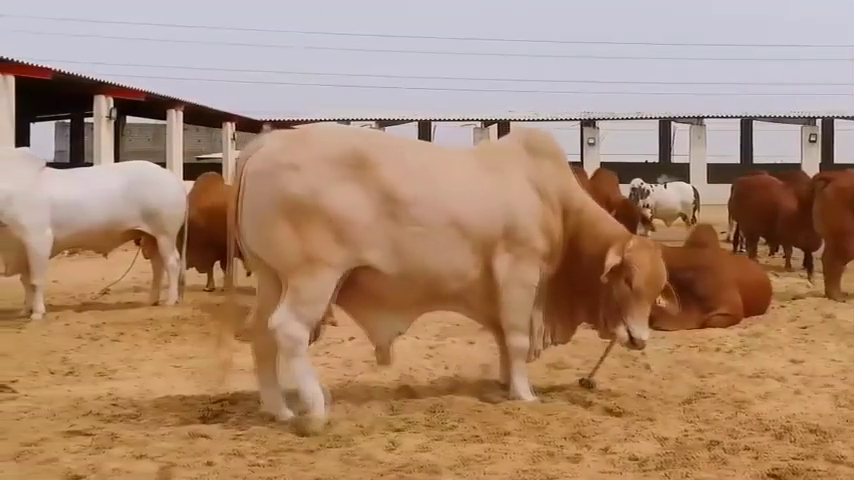bo: (212, 125, 678, 429), (1, 141, 192, 325), (639, 225, 779, 331), (724, 154, 810, 278), (177, 166, 247, 301), (788, 157, 853, 298), (565, 161, 649, 230), (624, 165, 704, 234)
